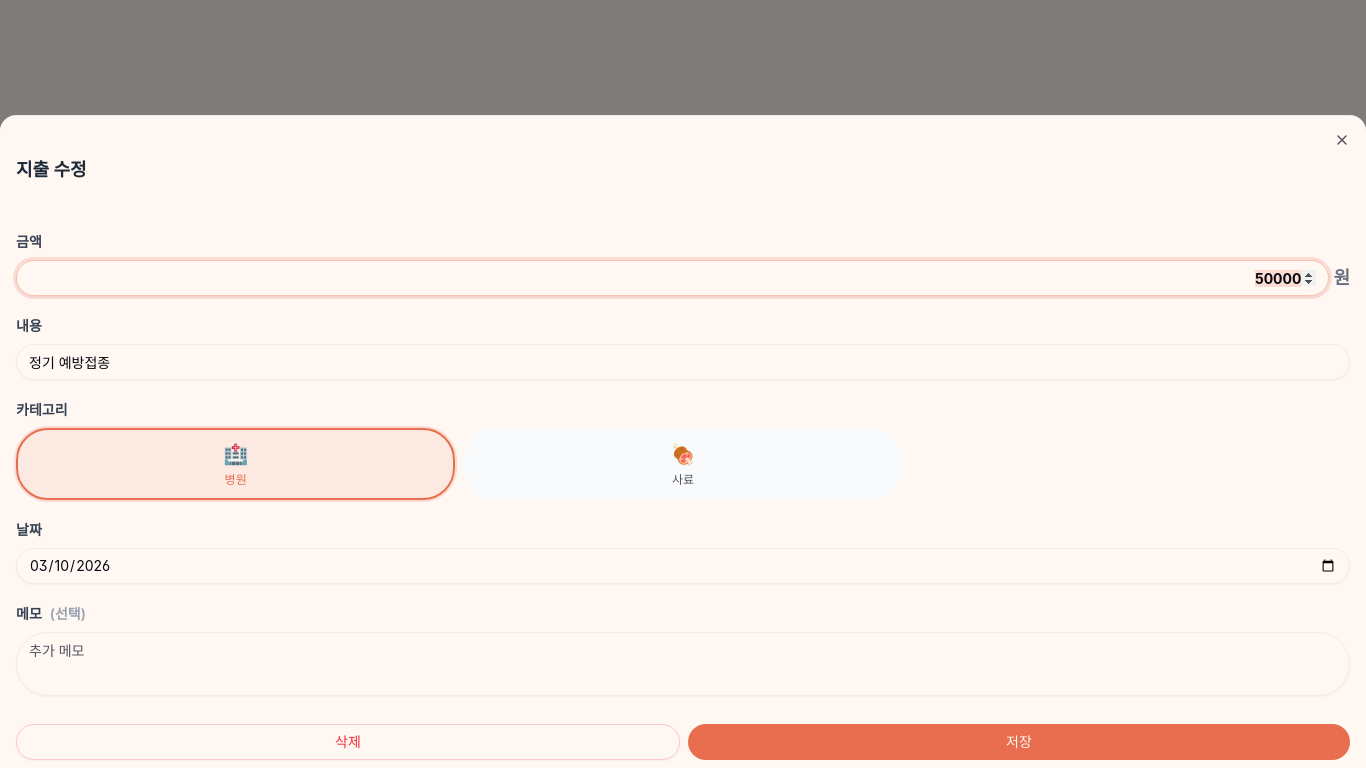
Test: ExpenseEditSheet › 삭제 버튼 › ConfirmDialog의 취소 버튼 클릭 시 dialog가 닫힌다
Click the button "삭제" at (348, 742), box x1=16 y1=724 x2=680 y2=760
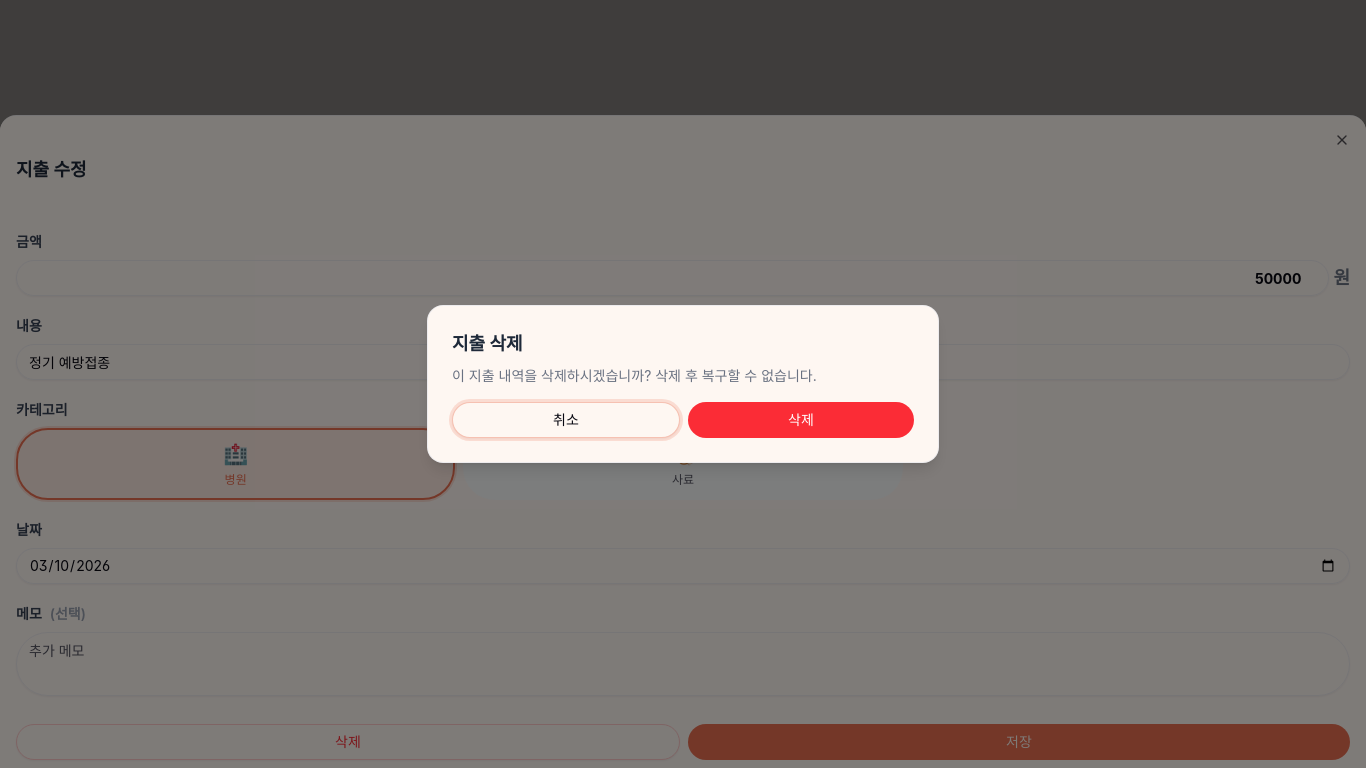
Expected: the heading "지출 삭제" is shown, x1=452 y1=333 x2=522 y2=354
Click the button "취소" at (566, 420), box x1=452 y1=402 x2=680 y2=438
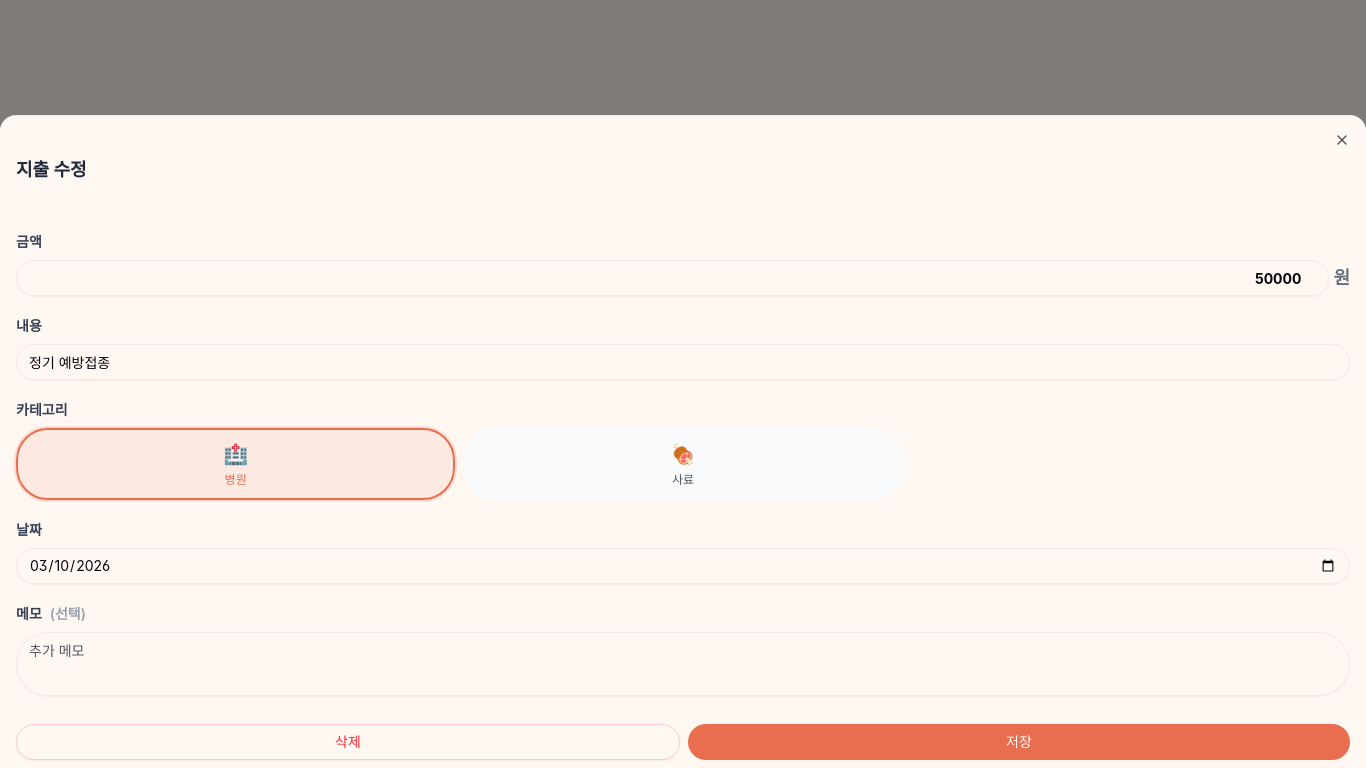
Expected: the heading "지출 삭제" is gone
